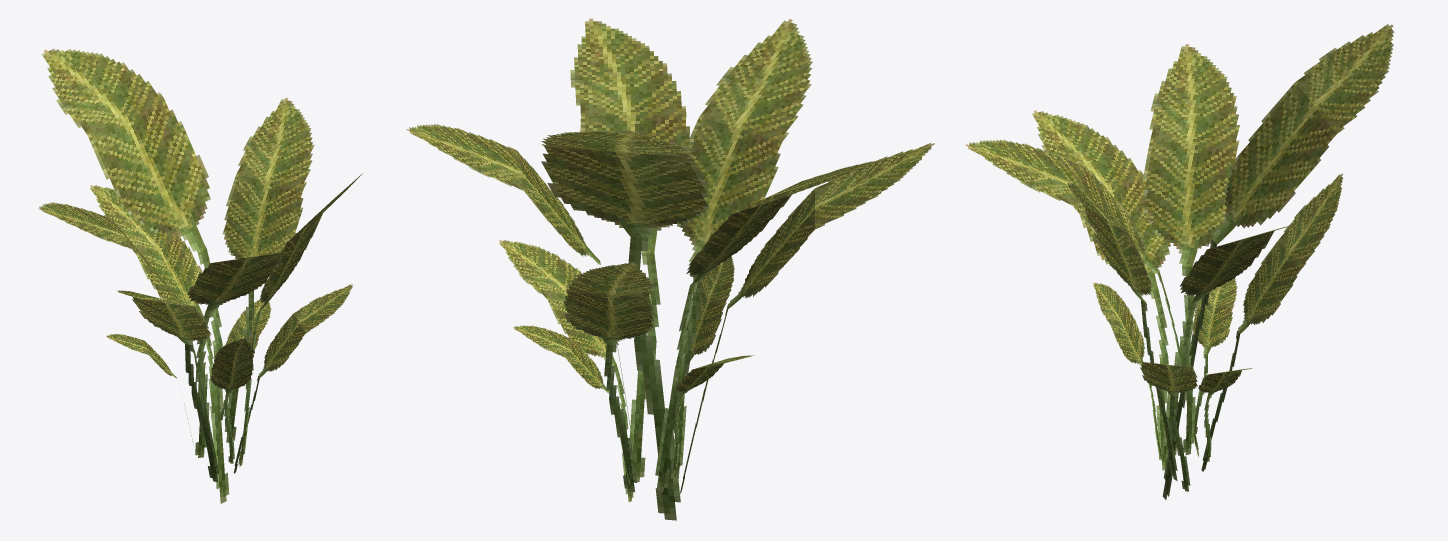
File: calathea.glb
3 renders of one model, left to right at view 1: azimuth 30°, elevation 25°; view 2: azimuth 150°, elevation 25°; view 3: azimuth 270°, elevation 25°, orthographic. The views are drawn at different scales.
Visible parts, largest first — view 1: calathea; view 2: calathea; view 3: calathea.
Part boxes in pixels (x1,y1,x2,y2): calathea: (38,48,362,503); calathea: (406,18,934,520); calathea: (965,24,1394,499).
Bounding box in the file's own units: 0.4903 × 0.5327 × 0.5246.
Materials: 1 (1 with a texture image).
